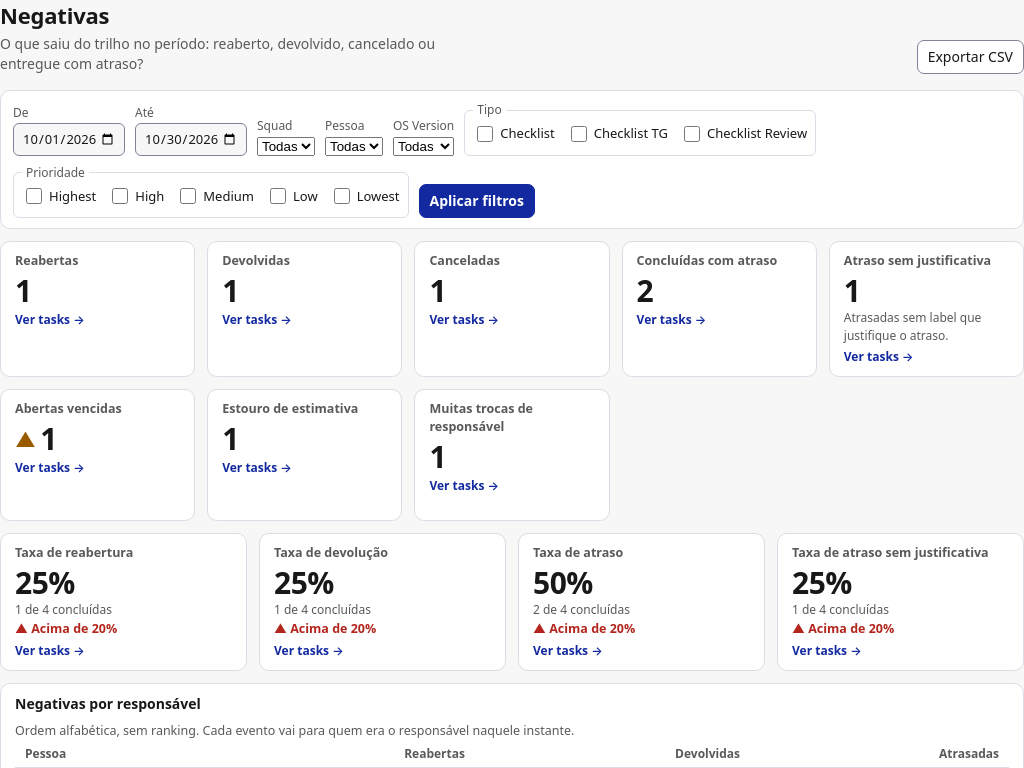
Test case: tela Negativas › kpiAbreGavetaComMesmoTamanho
Step 1. Click the button named "Reabertas" → (98, 302), box [15,274,180,329]
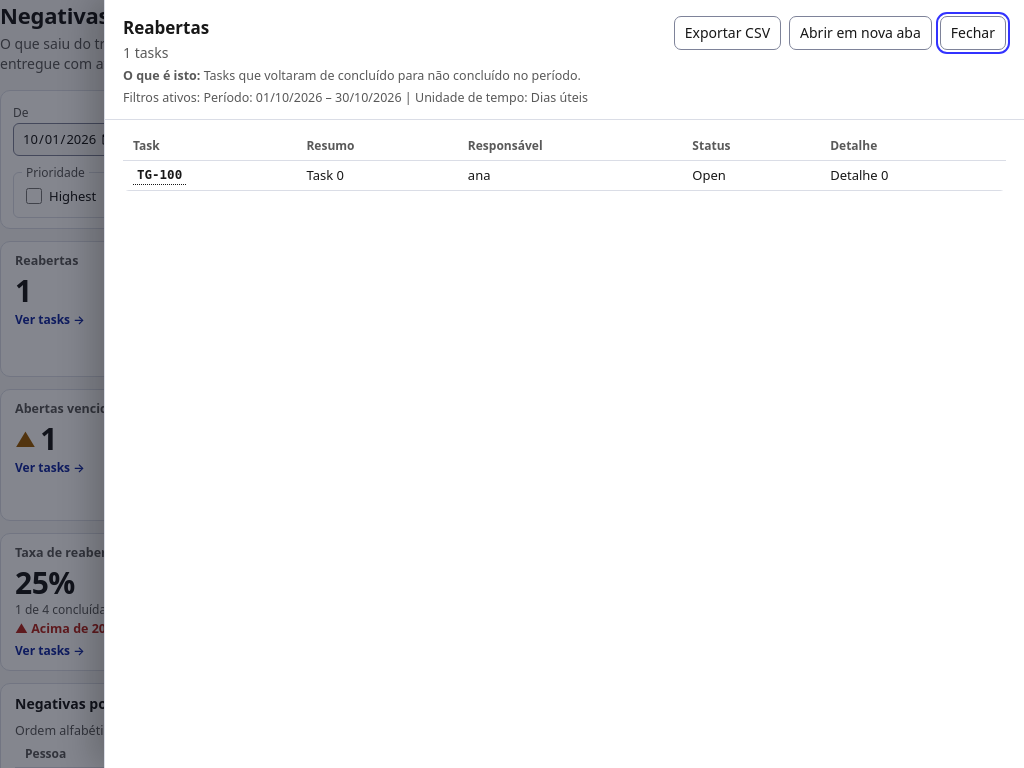
Expected: the text "1 tasks" is shown, [123,43,168,62]
